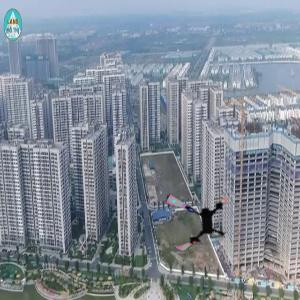drone: (159, 181, 236, 258)
